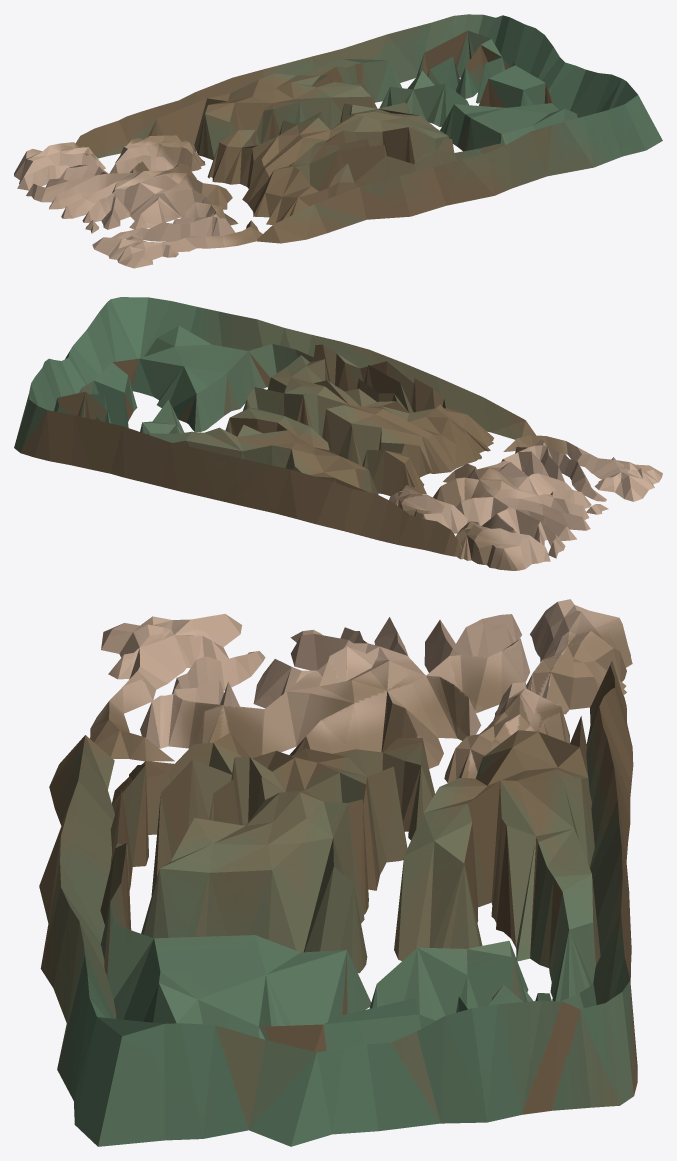
Rendered from mountains.glb.
3 views of the same model, one above another, from view 1: azimuth 30°, elevation 25°; view 2: azimuth 150°, elevation 25°; view 3: azimuth 270°, elevation 25° (orthographic). The views are drawn at different scales.
Parts seen in each view (by area): view 1: Plane.006, Plane.005, Plane.001, Plane, Plane.002, Plane.003; view 2: Plane.006, Plane.005, Plane.001, Plane, Plane.003, Plane.002; view 3: Plane.006, Plane.005, Plane.001, Plane, Plane.003, Plane.002.
Boxes of the visible parts, box(x1,y1,x2,y2) form: Plane.006: box(148, 30, 577, 224); Plane.005: box(75, 14, 662, 243); Plane.001: box(26, 161, 238, 241); Plane: box(92, 220, 262, 268); Plane.002: box(109, 135, 205, 173); Plane.003: box(14, 142, 105, 190); Plane.006: box(54, 326, 493, 496); Plane.005: box(14, 297, 536, 556); Plane.001: box(433, 439, 608, 558); Plane: box(503, 435, 662, 501); Plane.003: box(456, 521, 550, 570); Plane.002: box(389, 485, 469, 533); Plane.006: box(100, 716, 600, 1052); Plane.005: box(39, 661, 637, 1146); Plane.001: box(140, 614, 529, 768); Plane: box(90, 614, 242, 761); Plane.003: box(526, 599, 632, 714); Plane.002: box(444, 682, 569, 782).
Size of the model in its own units: 883 by 94.4 by 426.
1 material, 1 textured.
